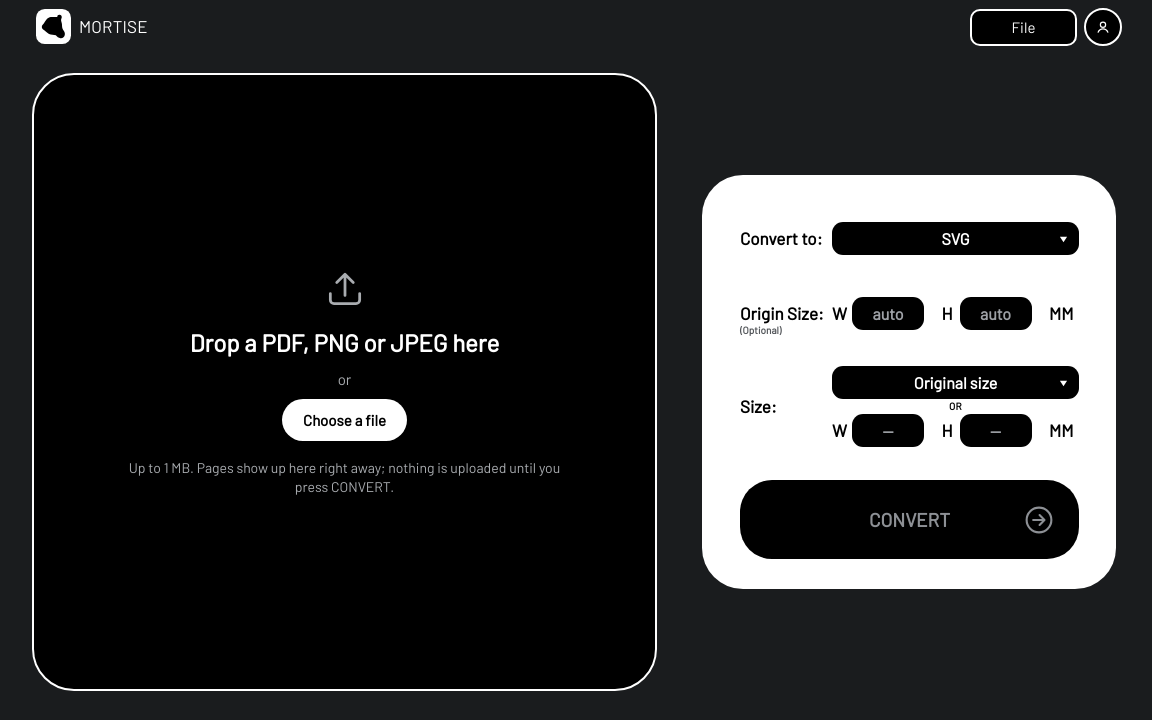
Test: App › warns about a half-filled origin size
The width and height of the screenshot is (1152, 720).
Type "0" into the field named "Original width in millimetres". click: (888, 314)
box: [852,297,924,330]
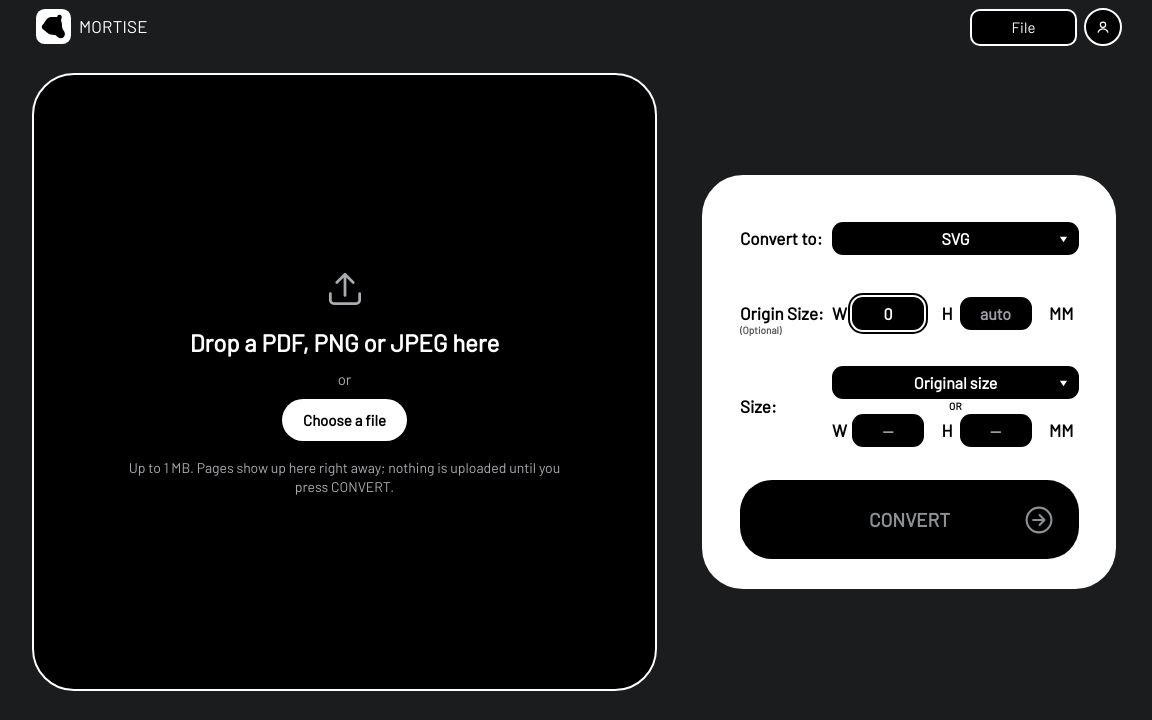
Press Tab
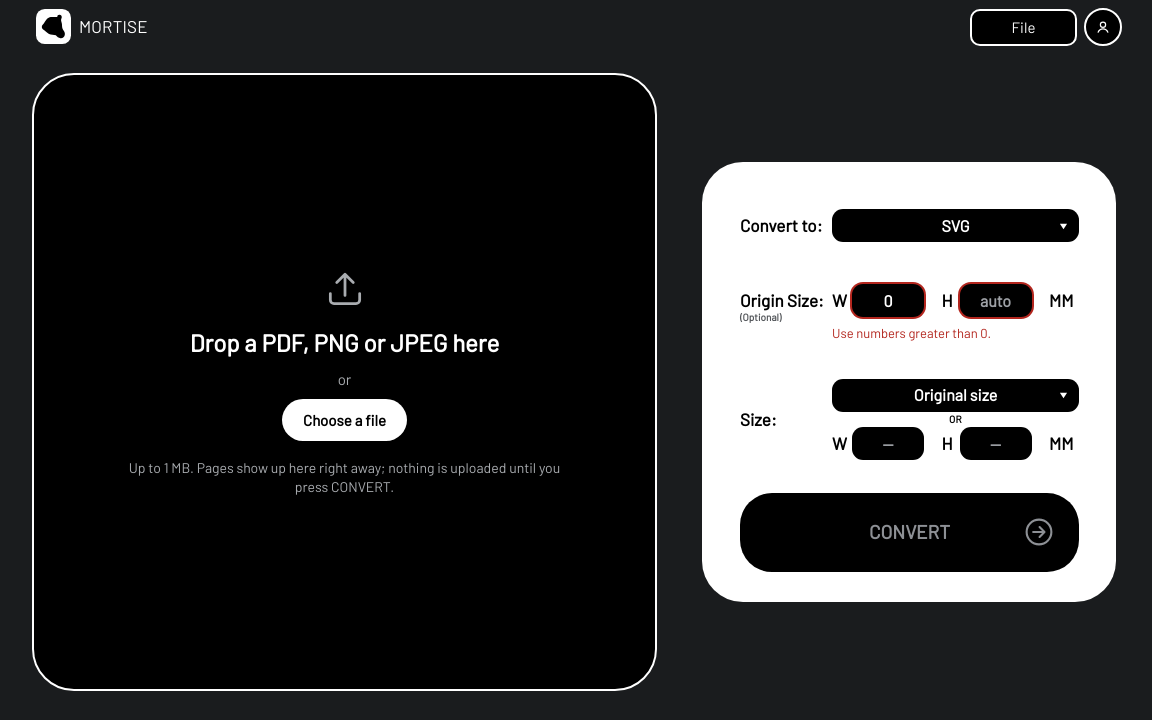
Expected: the text "Use numbers greater than 0." is shown, [832,325,991,341]
